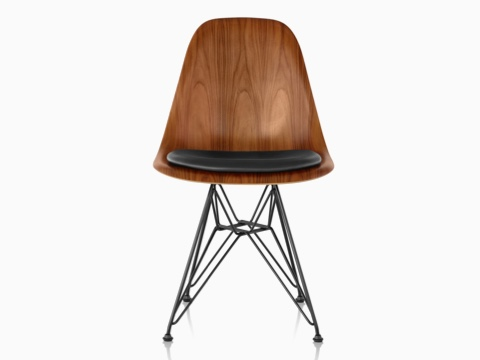chairs: (152, 17, 336, 348)
